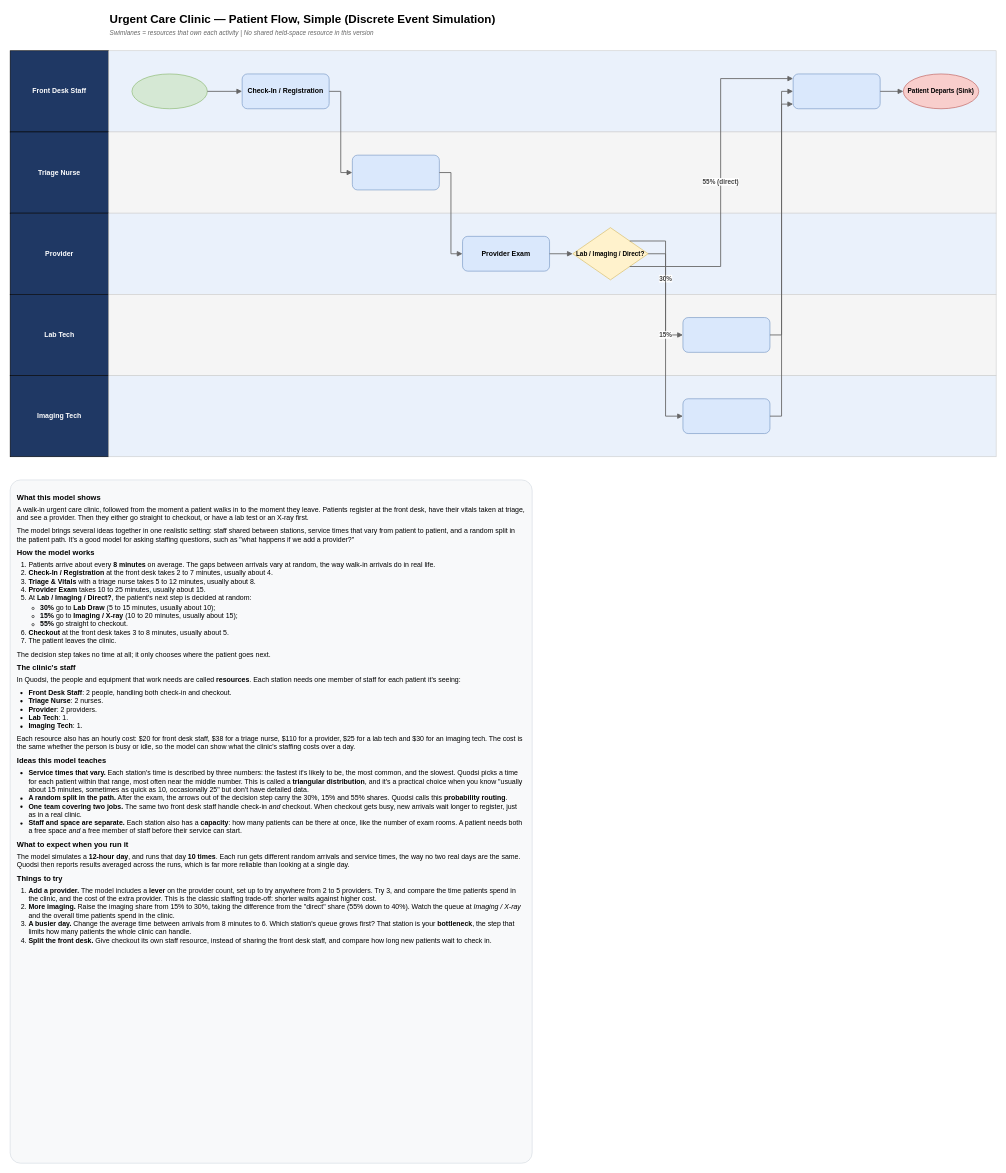
This 1006x1173 diagram has some shape labels left out. Here are the shapes that lost their labels. From the top down, the box of each, then its label:
(131, 73, 207, 109): Patient Arrival (Generator)
(793, 73, 880, 109): Checkout
(352, 155, 439, 190): Triage & Vitals
(682, 317, 770, 352): Lab Draw
(682, 398, 770, 434): Imaging / X-ray
